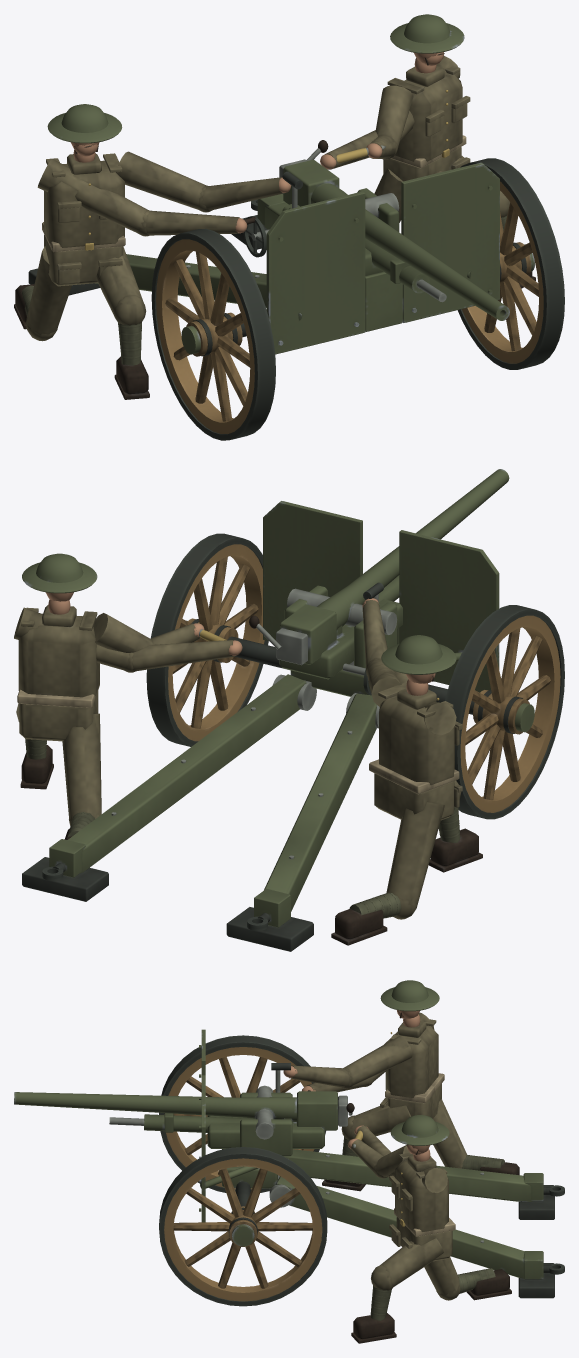
The picture shows the model from 3 angles, top to bottom: view 1: azimuth 30°, elevation 25°; view 2: azimuth 150°, elevation 25°; view 3: azimuth 270°, elevation 25°; orthographic projection. The views are drawn at different scales.
Visible parts, largest first — view 1: Shield, Layer_Service_dress, Wheel_R, Loader_Service_dress, Wheel_L, Barrel, Carriage, Trail_R, Loader_Brodie_helmet, Layer_Brodie_helmet, Recoil, Trail_L; view 2: Loader_Service_dress, Layer_Service_dress, Shield, Wheel_R, Wheel_L, Trail_L, Trail_R, Barrel, Carriage, Loader_Brodie_helmet, Layer_Brodie_helmet; view 3: Wheel_L, Loader_Service_dress, Layer_Service_dress, Barrel, Trail_L, Trail_R, Wheel_R, Carriage, Recoil, Layer_Brodie_helmet, Loader_Brodie_helmet, Shield.
Boxes of the visible parts, left/top/right/bottom form: Shield: left=266, top=162, right=499, bottom=354; Layer_Service_dress: left=14, top=142, right=291, bottom=399; Wheel_R: left=151, top=228, right=275, bottom=440; Loader_Service_dress: left=320, top=52, right=535, bottom=288; Wheel_L: left=457, top=158, right=564, bottom=369; Barrel: left=279, top=140, right=509, bottom=320; Carriage: left=241, top=171, right=470, bottom=336; Trail_R: left=28, top=254, right=266, bottom=307; Loader_Brodie_helmet: left=390, top=14, right=464, bottom=53; Layer_Brodie_helmet: left=47, top=104, right=122, bottom=143; Recoil: left=365, top=238, right=446, bottom=302; Trail_L: left=231, top=194, right=288, bottom=249; Loader_Service_dress: left=14, top=592, right=242, bottom=839; Layer_Service_dress: left=331, top=598, right=482, bottom=945; Shield: left=263, top=501, right=499, bottom=692; Wheel_R: left=445, top=605, right=564, bottom=819; Wheel_L: left=146, top=533, right=268, bottom=746; Trail_L: left=22, top=674, right=316, bottom=901; Trail_R: left=226, top=693, right=379, bottom=951; Barrel: left=249, top=469, right=509, bottom=665; Carriage: left=227, top=582, right=474, bottom=714; Loader_Brodie_helmet: left=22, top=553, right=97, bottom=593; Layer_Brodie_helmet: left=381, top=635, right=456, bottom=674; Wheel_L: left=159, top=1147, right=327, bottom=1306; Loader_Service_dress: left=347, top=1125, right=511, bottom=1343; Layer_Service_dress: left=283, top=1010, right=519, bottom=1191; Barrel: left=14, top=1091, right=354, bottom=1130; Trail_L: left=269, top=1175, right=564, bottom=1298; Trail_R: left=284, top=1149, right=564, bottom=1219; Wheel_R: left=159, top=1035, right=325, bottom=1192; Carriage: left=200, top=1063, right=324, bottom=1206; Recoil: left=109, top=1113, right=292, bottom=1132; Layer_Brodie_helmet: left=380, top=980, right=439, bottom=1011; Loader_Brodie_helmet: left=390, top=1115, right=449, bottom=1145; Shield: left=199, top=1029, right=205, bottom=1222.
Size of the model in its own units: 2.55 by 1.34 by 3.34.
Materials: 1 (1 with a texture image).
